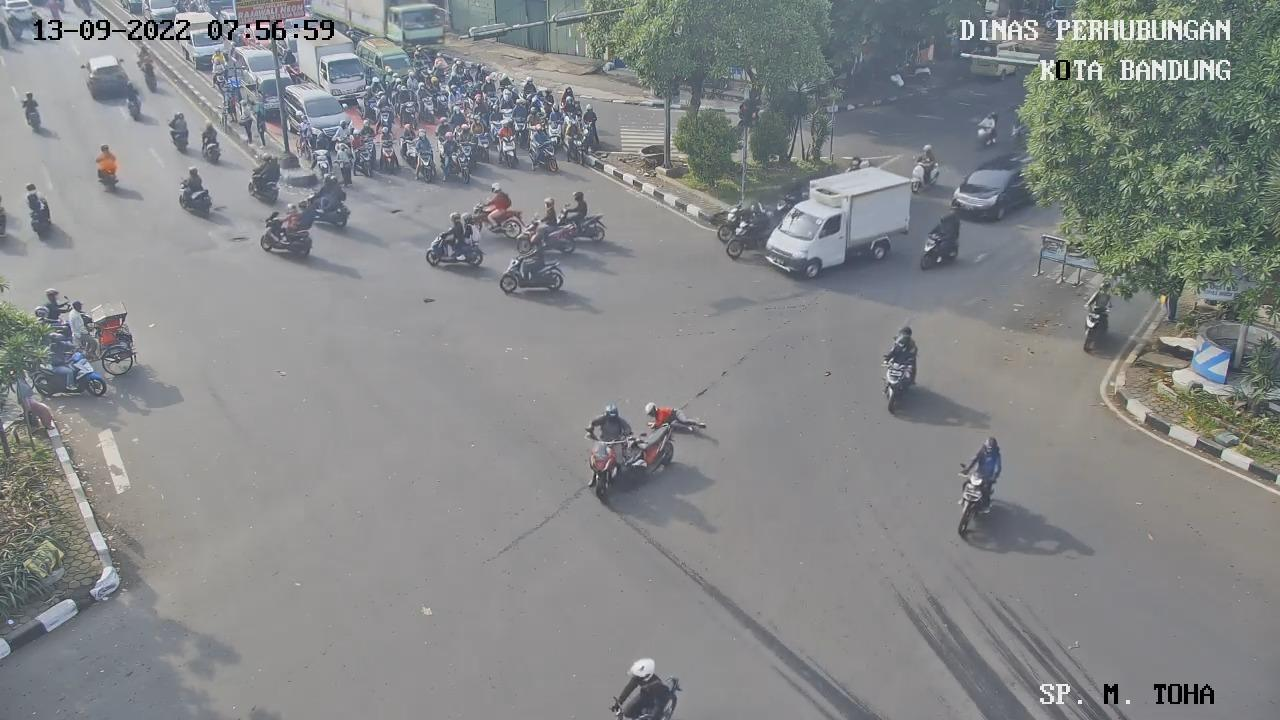accident: (645, 402, 707, 434)
